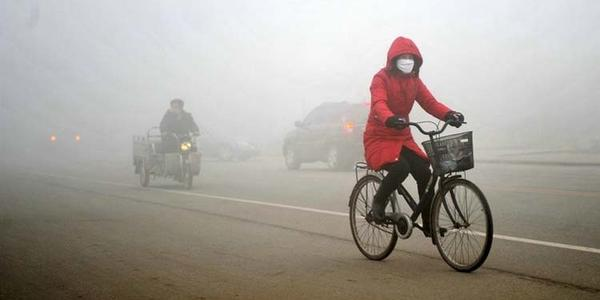person: (365, 37, 459, 238), (159, 96, 198, 153)
